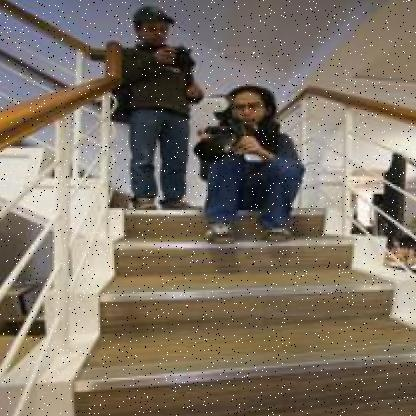stair_up: (84, 242, 416, 412)
